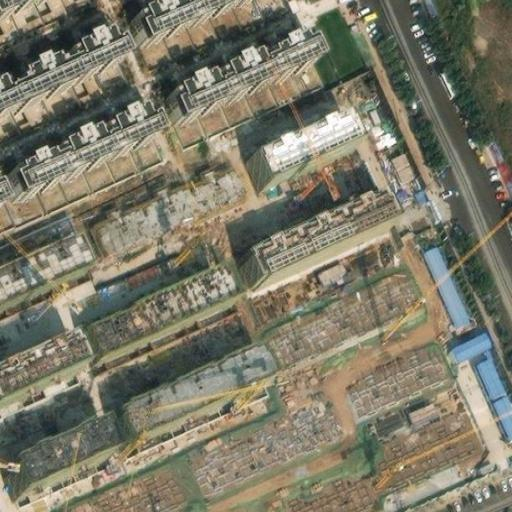building: (275, 278, 427, 371), (188, 395, 340, 488), (114, 350, 266, 442), (81, 259, 229, 352), (243, 199, 393, 289), (11, 100, 153, 193), (167, 34, 314, 113), (0, 34, 120, 111), (8, 415, 115, 489), (343, 344, 450, 417), (368, 414, 475, 487), (0, 235, 99, 307), (249, 120, 349, 183), (152, 156, 243, 224), (55, 464, 182, 512), (0, 335, 74, 398), (265, 469, 368, 512), (94, 194, 167, 250), (422, 239, 472, 320), (475, 351, 506, 394), (403, 398, 442, 429), (383, 148, 414, 186), (450, 327, 490, 356), (310, 256, 346, 287), (491, 387, 512, 433)
